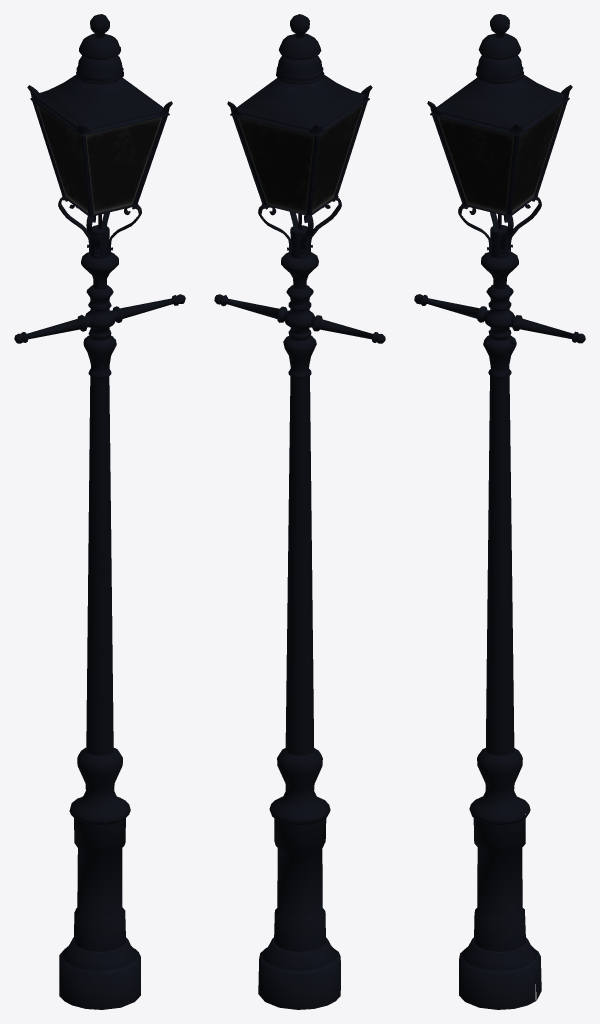
Rendered from isl_lamp.glb.
The picture shows the model from 3 angles, left to right: view 1: azimuth 30°, elevation 25°; view 2: azimuth 150°, elevation 25°; view 3: azimuth 330°, elevation 25°; orthographic projection.
Visible parts, largest first — view 1: street_lamp_01; view 2: street_lamp_01; view 3: street_lamp_01.
Part boxes in pixels (bbox=[...]): street_lamp_01: bbox=[14, 14, 185, 1009]; street_lamp_01: bbox=[214, 14, 385, 1009]; street_lamp_01: bbox=[414, 14, 585, 1009].
Size of the model in its own units: 0.7047 by 3.87 by 0.3842.
Materials: 3 (3 with a texture image).
